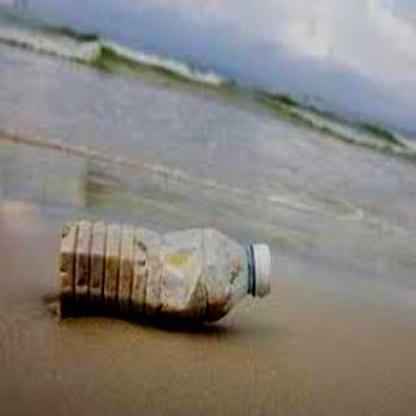plastic bottle: (60, 220, 271, 320)
